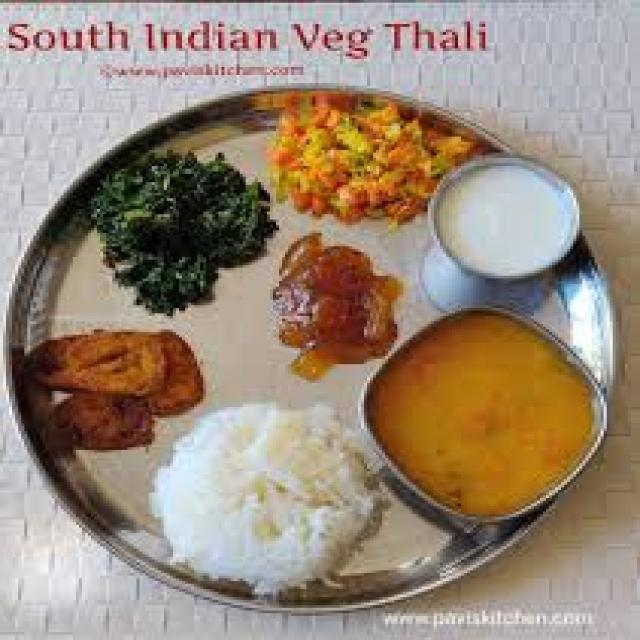curd: (423, 150, 593, 287)
dal: (363, 304, 629, 521)
pickle: (263, 240, 410, 379)
rice: (150, 400, 383, 592)
veg-fry: (67, 140, 274, 304), (249, 87, 434, 227)
